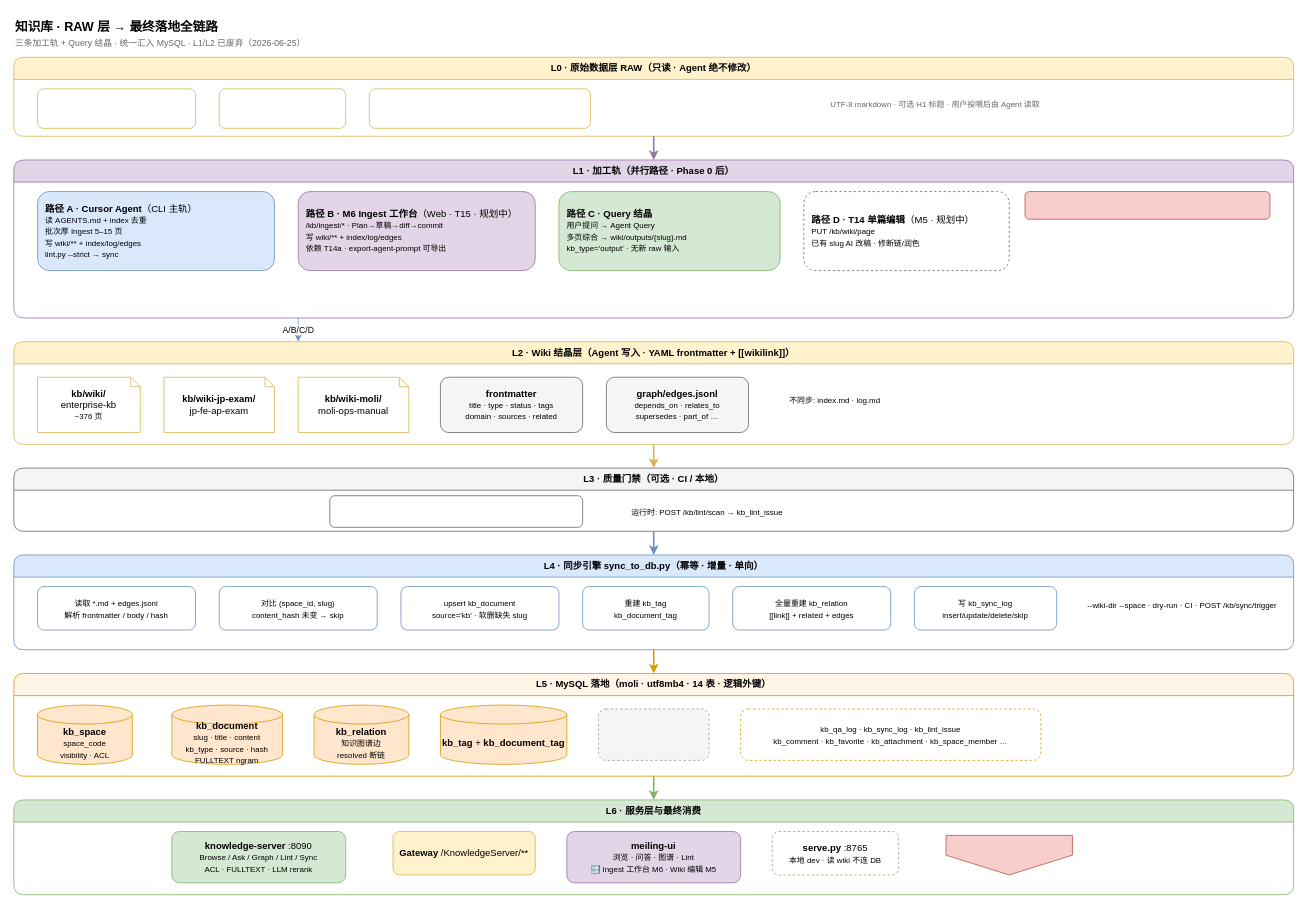
Image size: 1307x909. Some labels were removed from this diagram. The shapes that lost their labels are listed below. From the top down, each one's centre as x and y in pixels, then its label:
At point (116, 108): "raw/wujinsen_markdown/ ~1962 篇 .note.md Evernote 导出 · 面试/文章".
At point (282, 108): "raw/school/fe/ 日本語 FE 試験題".
At point (480, 108): "raw/docs · articles · interview/ 项目文档 · 技术文章 · 面试原始材料".
At point (1147, 205): "✕ L1/L2 已移除 · raw→DB 直写 · l2-*.md 批量 · purge-raw-archive".
At point (456, 511): "lint.py --strict CI 门禁 · broken_link · orphan · missing_source".
At point (653, 734): "source='raw' L1 已 purge is_delete=1".
At point (1008, 855): "禁止反向 DB → markdown".
